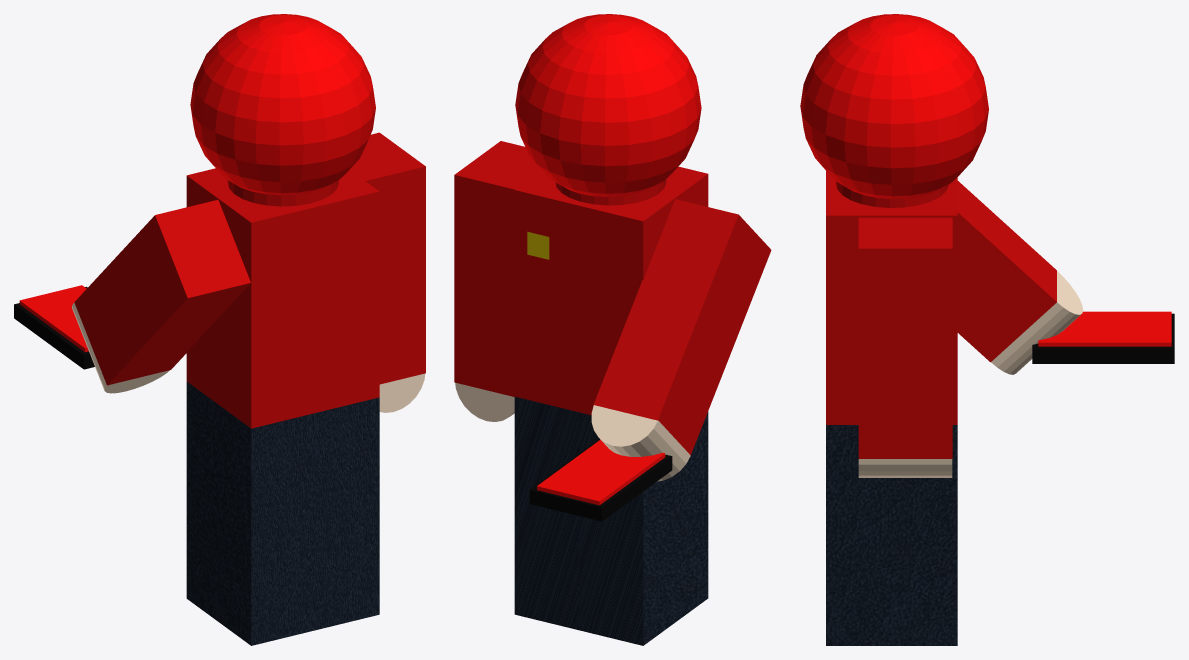
Rendered from RED 2.3ds.glb.
3 renders of one model, left to right at view 1: azimuth 30°, elevation 25°; view 2: azimuth 150°, elevation 25°; view 3: azimuth 270°, elevation 25°, orthographic.
Parts seen in each view (by area): view 1: Model, leg2, Group2, leg1, Group1, Group3, hadn_2_1, hadn_2_2; view 2: Model, Group2, leg2, Group1, leg1, Group3, hadn_2_2, hadn_2_1; view 3: Model, leg1, Group1, Group2, Group3, hadn_2_2, hadn_2_1.
Part boxes in pixels (x1=…): Model: x1=186, y1=14, x2=379, y2=428; leg2: x1=186, y1=381, x2=315, y2=645; Group2: x1=74, y1=200, x2=250, y2=385; leg1: x1=315, y1=397, x2=379, y2=630; Group1: x1=350, y1=132, x2=425, y2=384; Group3: x1=14, y1=285, x2=94, y2=369; hadn_2_1: x1=379, y1=373, x2=425, y2=412; hadn_2_2: x1=72, y1=302, x2=169, y2=393; Model: x1=514, y1=14, x2=708, y2=415; Group2: x1=593, y1=199, x2=771, y2=455; leg2: x1=579, y1=411, x2=708, y2=645; Group1: x1=454, y1=141, x2=541, y2=396; leg1: x1=514, y1=396, x2=578, y2=630; Group3: x1=529, y1=438, x2=672, y2=521; hadn_2_2: x1=591, y1=405, x2=690, y2=481; hadn_2_1: x1=455, y1=382, x2=514, y2=421; Model: x1=800, y1=14, x2=988, y2=424; leg1: x1=826, y1=425, x2=957, y2=645; Group1: x1=858, y1=217, x2=952, y2=458; Group2: x1=957, y1=181, x2=1056, y2=362; Group3: x1=1032, y1=311, x2=1174, y2=363; hadn_2_2: x1=991, y1=271, x2=1083, y2=374; hadn_2_1: x1=858, y1=459, x2=952, y2=477.
Bounding box in the file's own units: 203 × 441 × 253.
Materials: 14 (2 with a texture image).
